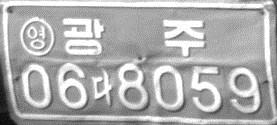0: (151, 64, 184, 112), (19, 63, 52, 109)
5: (190, 65, 221, 113)
6: (56, 63, 88, 110)
8: (116, 63, 149, 112)
9: (228, 66, 261, 114)
광주_D: (61, 16, 205, 57)
다: (90, 68, 113, 106)
영: (19, 16, 54, 56)
